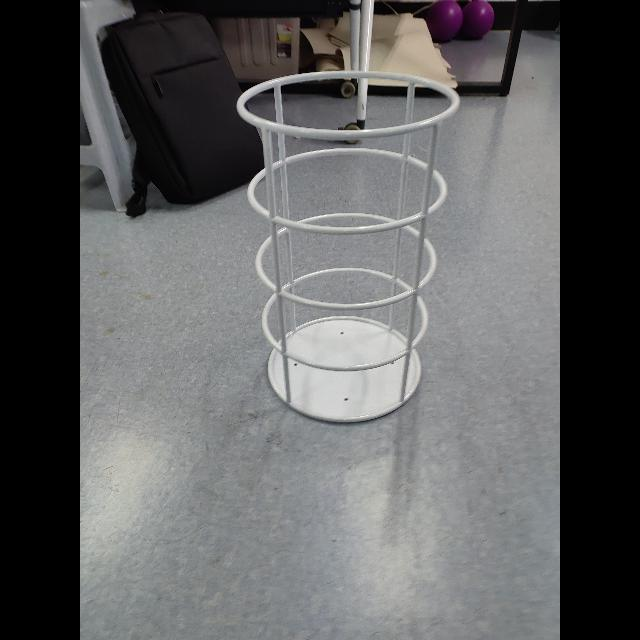S: (232, 66, 463, 428)
